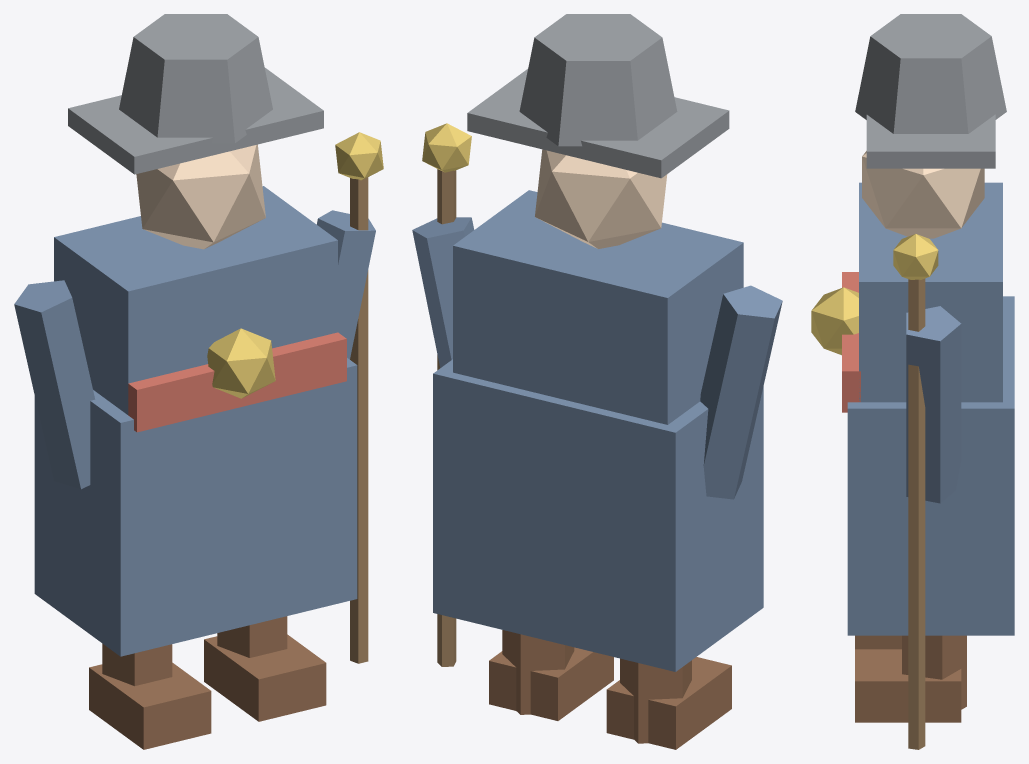
Rendered from npc_mayor.glb.
3 views of the same model, side by side, from view 1: azimuth 30°, elevation 25°; view 2: azimuth 150°, elevation 25°; view 3: azimuth 270°, elevation 25° (orthographic). The views are drawn at different scales.
Parts seen in each view (by area): view 1: robe, torso, hat_crown, arm_0, head, sash, hat_brim, boot_1, boot_0, cane, arm_1, medal (+3 smaller); view 2: robe, torso, hat_crown, arm_0, head, hat_brim, boot_0, boot_1, arm_1, leg_0.001, leg_1.001, cane (+1 smaller); view 3: robe, torso, hat_crown, arm_1, cane, head, boot_1, hat_brim, medal, leg_1.001, cane_knob, sash (+1 smaller).
Part boxes in pixels (box(x1,y1,x2,y2)): robe: box(34, 358, 357, 656); torso: box(54, 186, 337, 414); hat_crown: box(119, 14, 272, 143); arm_0: box(14, 280, 95, 489); head: box(136, 144, 265, 249); sash: box(128, 332, 346, 432); hat_brim: box(68, 67, 323, 174); boot_1: box(204, 634, 326, 721); boot_0: box(89, 662, 211, 749); cane: box(350, 177, 368, 663); arm_1: box(316, 210, 375, 359); medal: box(207, 328, 275, 398); robe: box(433, 359, 763, 671); torso: box(453, 190, 743, 424); hat_crown: box(519, 14, 677, 146); arm_0: box(700, 285, 782, 499); head: box(535, 149, 667, 248); hat_brim: box(467, 69, 729, 178); boot_0: box(606, 657, 731, 749); boot_1: box(489, 647, 613, 720); arm_1: box(412, 217, 474, 367); leg_0.001: box(620, 658, 691, 743); leg_1.001: box(502, 630, 574, 714); cane: box(437, 169, 456, 666); robe: box(847, 296, 1014, 635); torso: box(859, 182, 1002, 402); hat_crown: box(855, 14, 1006, 133); arm_1: box(906, 306, 961, 503); cane: box(908, 278, 925, 749); head: box(862, 151, 984, 238); boot_1: box(855, 649, 961, 722); hat_brim: box(866, 114, 995, 168); medal: box(811, 287, 858, 355); leg_1.001: box(902, 635, 966, 709); cane_knob: box(893, 234, 938, 279); sash: box(842, 272, 860, 412).
Bounding box in the file's own units: 1.05 × 1.87 × 0.5351.
